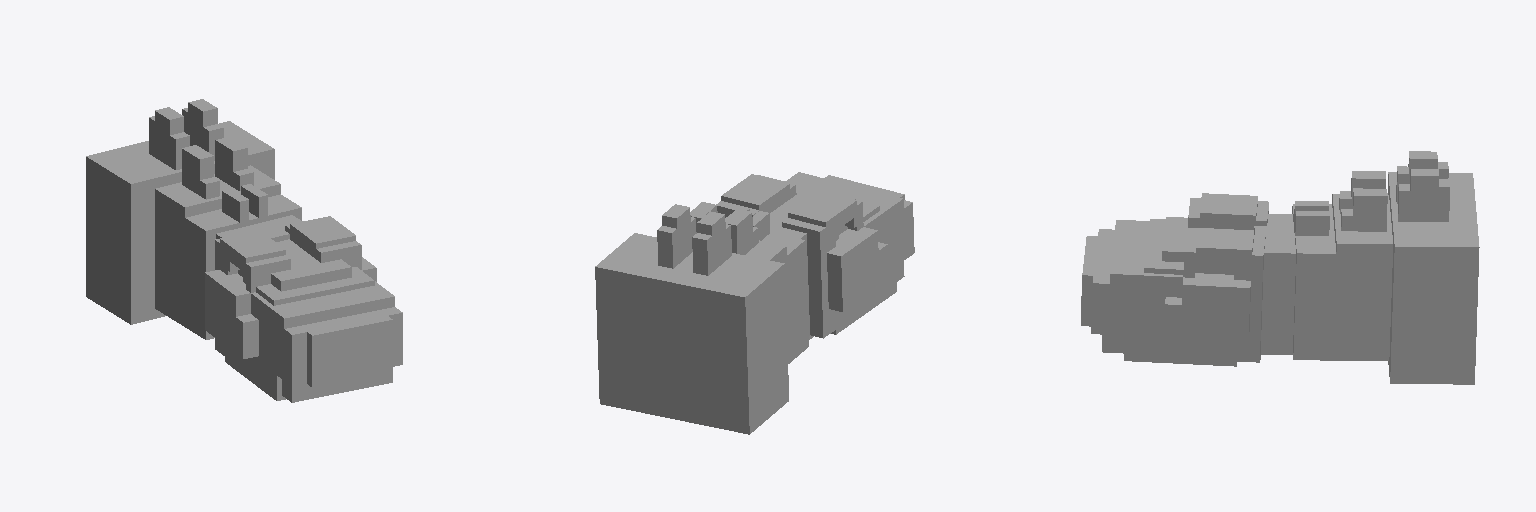
3 views of the same model, side by side, from view 1: azimuth 30°, elevation 25°; view 2: azimuth 150°, elevation 25°; view 3: azimuth 270°, elevation 25° (orthographic).
Parts seen in each view (by area): view 1: Model; view 2: Model; view 3: Model.
Boxes of the visible parts, box(x1,y1,x2,y2) form: Model: box(86, 99, 402, 402); Model: box(595, 172, 914, 434); Model: box(1081, 151, 1479, 384).
Bounding box in the file's own units: 31.02 × 36.7 × 70.5.
1 materials, 1 textured.